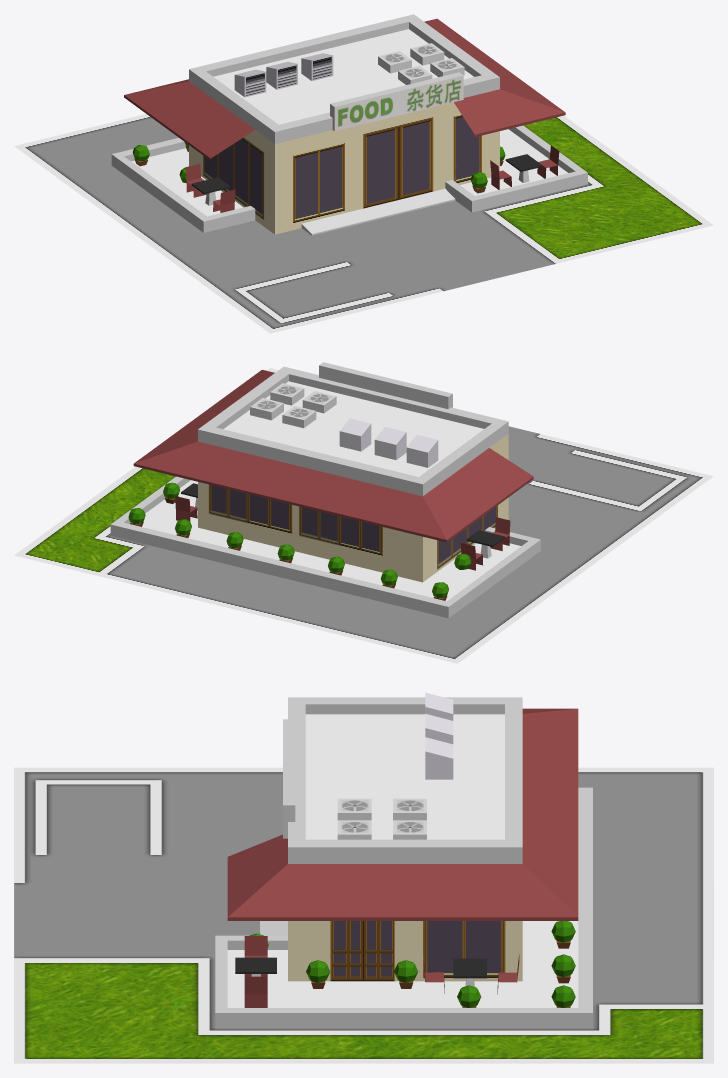
The model's file is Supermarket_lvl_1.fbx.
The picture shows the model from 3 angles, top to bottom: view 1: azimuth 30°, elevation 25°; view 2: azimuth 150°, elevation 25°; view 3: azimuth 270°, elevation 25°; orthographic projection. The views are drawn at different scales.
Visible parts, largest first — view 1: Supermarket_Lvl_1, Supermarket_BG, Supermarket_Lvl_1.001; view 2: Supermarket_Lvl_1, Supermarket_BG, Supermarket_Lvl_1.001; view 3: Supermarket_BG, Supermarket_Lvl_1, Supermarket_Lvl_1.001.
Part boxes in pixels (bbox=[...]): Supermarket_Lvl_1: bbox=[111, 14, 587, 235]; Supermarket_BG: bbox=[14, 114, 713, 333]; Supermarket_Lvl_1.001: bbox=[124, 18, 565, 212]; Supermarket_Lvl_1: bbox=[110, 362, 540, 618]; Supermarket_BG: bbox=[14, 368, 713, 663]; Supermarket_Lvl_1.001: bbox=[133, 369, 533, 570]; Supermarket_BG: bbox=[14, 767, 713, 1063]; Supermarket_Lvl_1: bbox=[215, 692, 592, 1028]; Supermarket_Lvl_1.001: bbox=[227, 708, 578, 1007].
Size of the model in its own units: 2000 by 501 by 2000.
